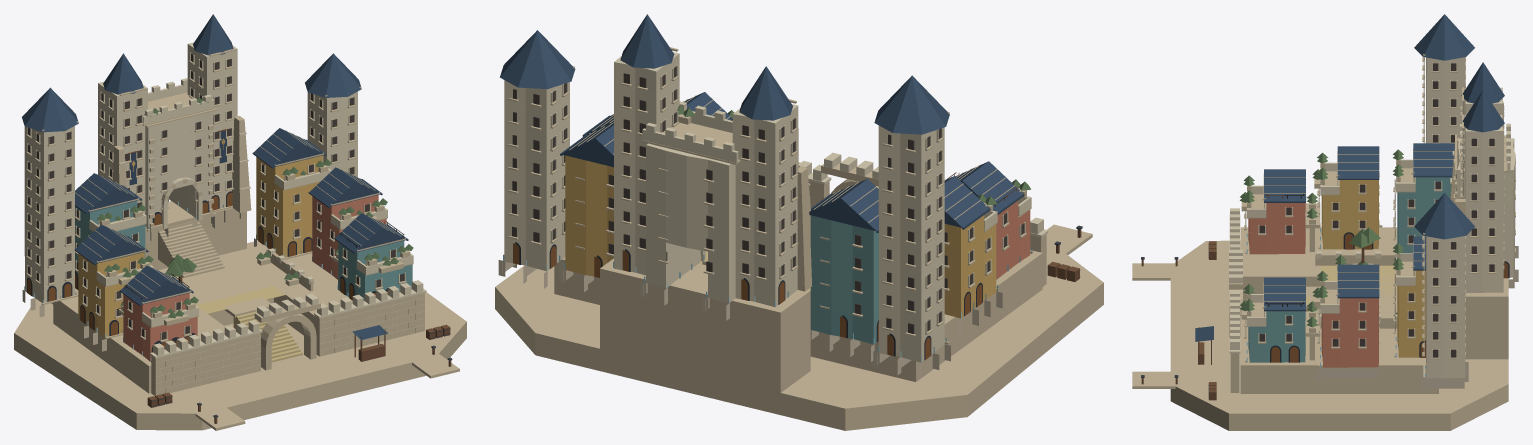
File: canal-junction-target-v1.glb
The picture shows the model from 3 angles, left to right: view 1: azimuth 30°, elevation 25°; view 2: azimuth 150°, elevation 25°; view 3: azimuth 270°, elevation 25°; orthographic projection. The views are drawn at different scales.
Parts seen in each view (by area): view 1: junction-00, junction-13, junction-01, junction-14, junction-11, junction-15, junction-03, junction-12, junction-16, junction-02, junction-06, junction-17 (+2 smaller); view 2: junction-00, junction-13, junction-14, junction-11, junction-01, junction-15, junction-12, junction-07, junction-03, junction-06, junction-05, junction-17; view 3: junction-00, junction-13, junction-14, junction-01, junction-03, junction-11, junction-12, junction-15, junction-16, junction-07, junction-02, junction-17 (+1 smaller).
Part boxes in pixels (left/top/right/bottom): junction-00: left=14, top=92, right=466, bottom=430; junction-13: left=24, top=42, right=426, bottom=392; junction-01: left=26, top=48, right=424, bottom=395; junction-14: left=22, top=14, right=408, bottom=305; junction-11: left=78, top=140, right=322, bottom=337; junction-15: left=28, top=53, right=404, bottom=339; junction-03: left=123, top=195, right=386, bottom=361; junction-12: left=75, top=201, right=412, bottom=300; junction-16: left=97, top=97, right=413, bottom=318; junction-02: left=178, top=270, right=302, bottom=362; junction-06: left=27, top=192, right=388, bottom=351; junction-17: left=128, top=128, right=451, bottom=423; junction-00: left=495, top=122, right=1103, bottom=430; junction-13: left=504, top=52, right=1048, bottom=362; junction-14: left=500, top=14, right=1024, bottom=232; junction-11: left=565, top=155, right=996, bottom=318; junction-01: left=508, top=47, right=1046, bottom=344; junction-15: left=512, top=66, right=1024, bottom=333; junction-12: left=810, top=215, right=878, bottom=344; junction-07: left=498, top=260, right=1002, bottom=380; junction-03: left=996, top=200, right=1030, bottom=279; junction-06: left=513, top=243, right=982, bottom=359; junction-05: left=515, top=242, right=982, bottom=360; junction-17: left=1047, top=229, right=1081, bottom=281; junction-00: left=1132, top=135, right=1510, bottom=430; junction-13: left=1229, top=57, right=1515, bottom=378; junction-14: left=1264, top=14, right=1504, bottom=311; junction-01: left=1229, top=54, right=1515, bottom=392; junction-03: left=1248, top=203, right=1378, bottom=367; junction-11: left=1321, top=180, right=1425, bottom=357; junction-12: left=1248, top=177, right=1451, bottom=362; junction-15: left=1246, top=58, right=1502, bottom=357; junction-16: left=1240, top=149, right=1464, bottom=327; junction-07: left=1316, top=225, right=1518, bottom=390; junction-02: left=1306, top=265, right=1397, bottom=314; junction-17: left=1141, top=241, right=1364, bottom=400.
Size of the model in its own units: 36 by 26.09 by 33.15.
